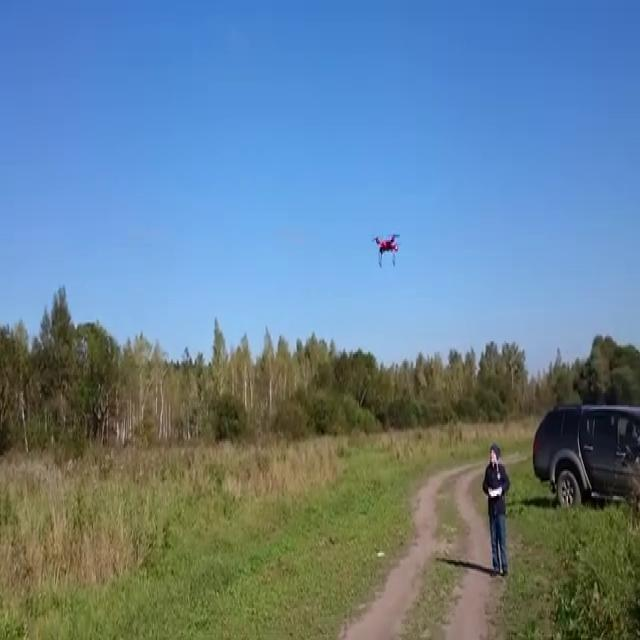Drons: (368, 229, 407, 271)
